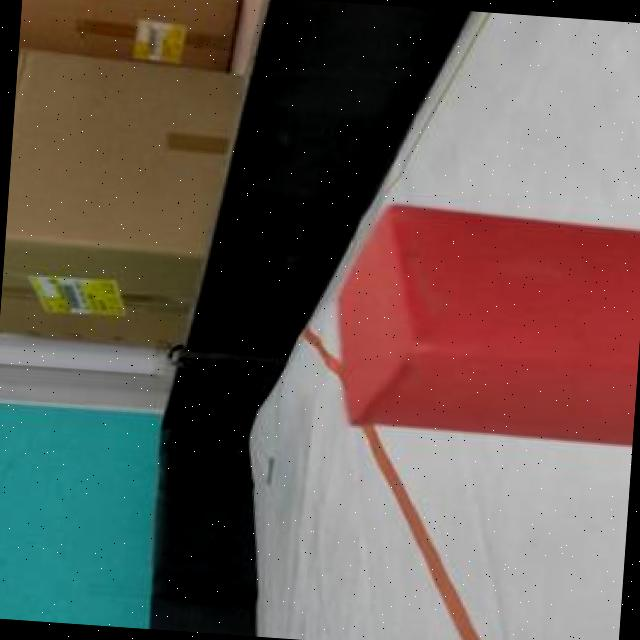redbox: (325, 198, 640, 443)
